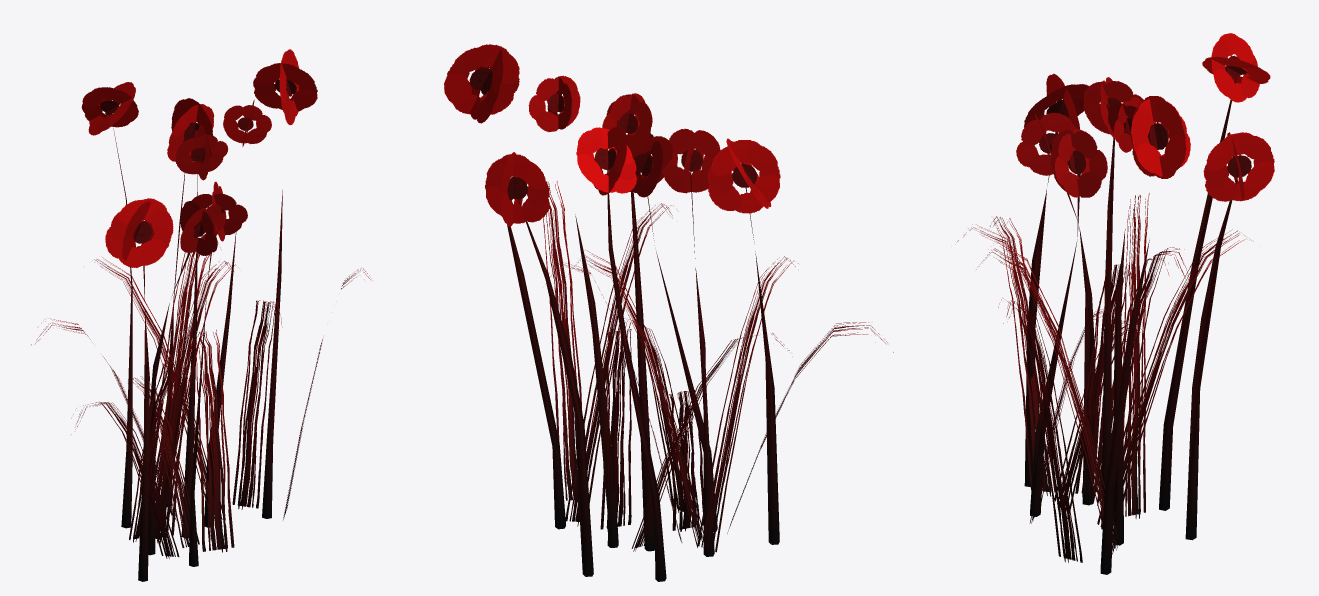
File: plant_grassland_wildflower_b_lod2.glb
3 renders of one model, left to right at view 1: azimuth 30°, elevation 25°; view 2: azimuth 150°, elevation 25°; view 3: azimuth 270°, elevation 25°, orthographic. The views are drawn at different scales.
Parts seen in each view (by area): view 1: plant_grassland_wildflower_b; view 2: plant_grassland_wildflower_b; view 3: plant_grassland_wildflower_b.
Boxes of the visible parts, <box> form: plant_grassland_wildflower_b: <box>31,49,370,581</box>; plant_grassland_wildflower_b: <box>444,44,893,581</box>; plant_grassland_wildflower_b: <box>957,33,1274,574</box>.
Bounding box in the file's own units: 0.4595 × 0.5913 × 0.368.
1 material, 1 textured.
